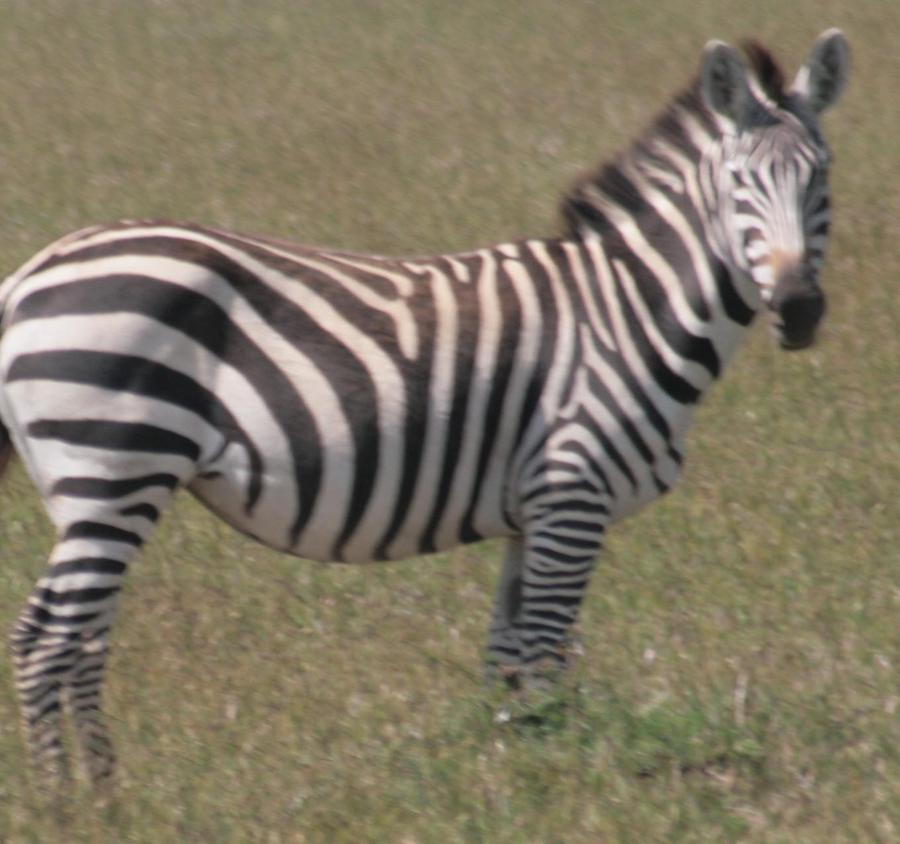zebra_plains: (12, 187, 715, 572)
